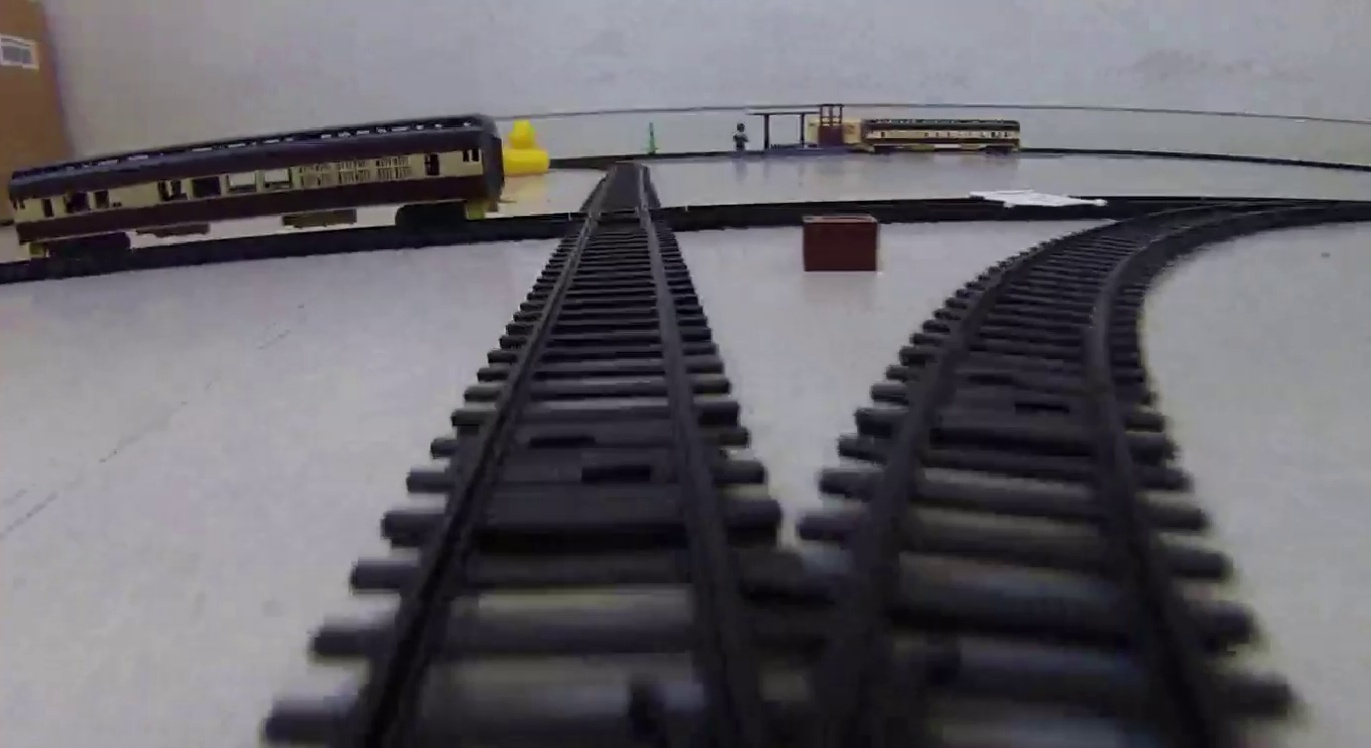box: (798, 215, 882, 276)
